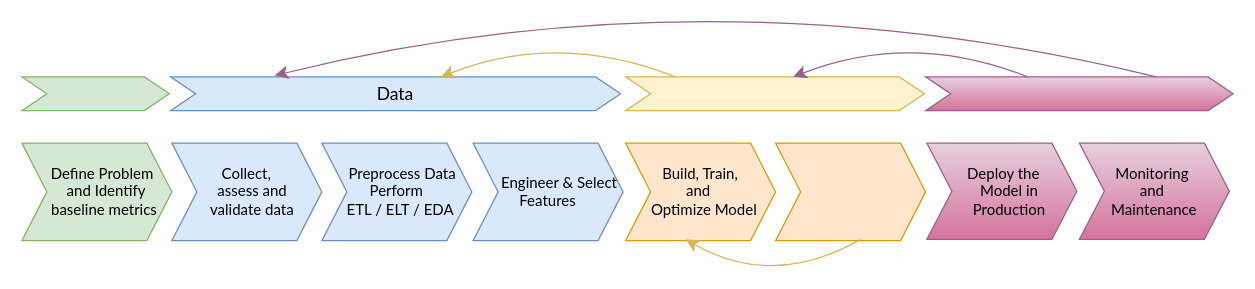
Some shapes in this 1255 by 289 pixel diagram are drawn without their labels. The centre of each missing label's shape, as x and y in pixels:
Deployment: (1078,93)
Evaluate and Validate Model: (850,191)
Modeling: (774,93)
Scoping: (95,93)
